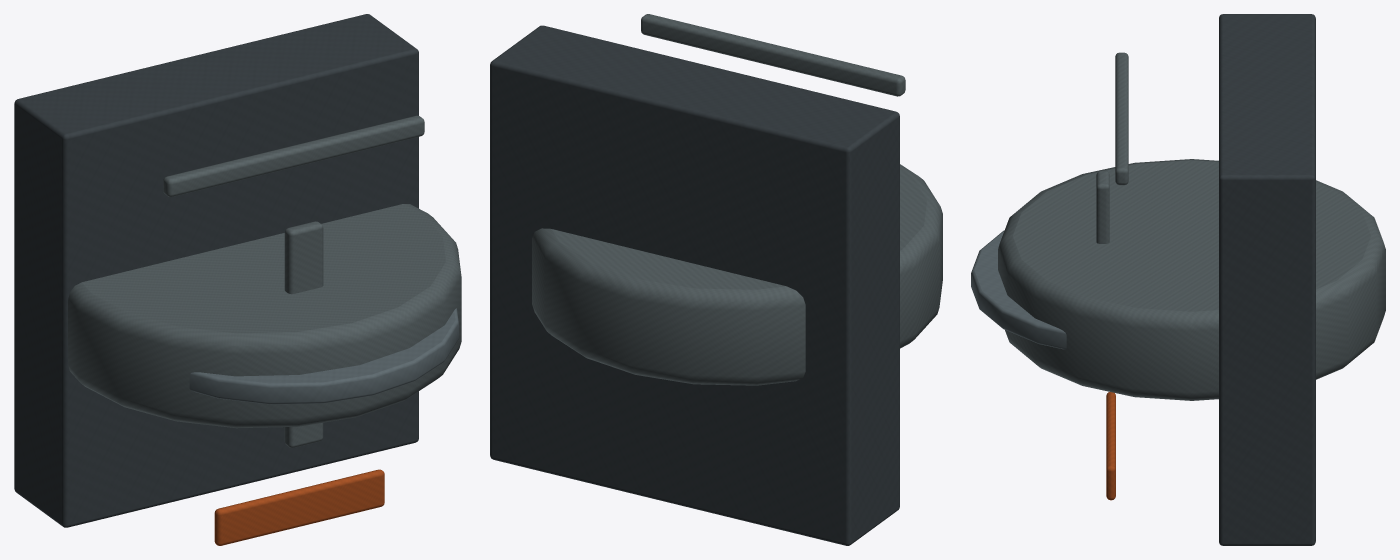
The model's file is IndustrialFan.fbx.
3 renders of one model, left to right at view 1: azimuth 30°, elevation 25°; view 2: azimuth 150°, elevation 25°; view 3: azimuth 270°, elevation 25°, orthographic. The views are drawn at different scales.
Visible parts, largest first — view 1: IndustrialFan_Mesh; view 2: IndustrialFan_Mesh; view 3: IndustrialFan_Mesh.
Part boxes in pixels (<box>): IndustrialFan_Mesh: <box>14,14,461,545</box>; IndustrialFan_Mesh: <box>490,14,942,545</box>; IndustrialFan_Mesh: <box>971,14,1385,545</box>.
Size of the model in its own units: 72 by 76 by 77.
